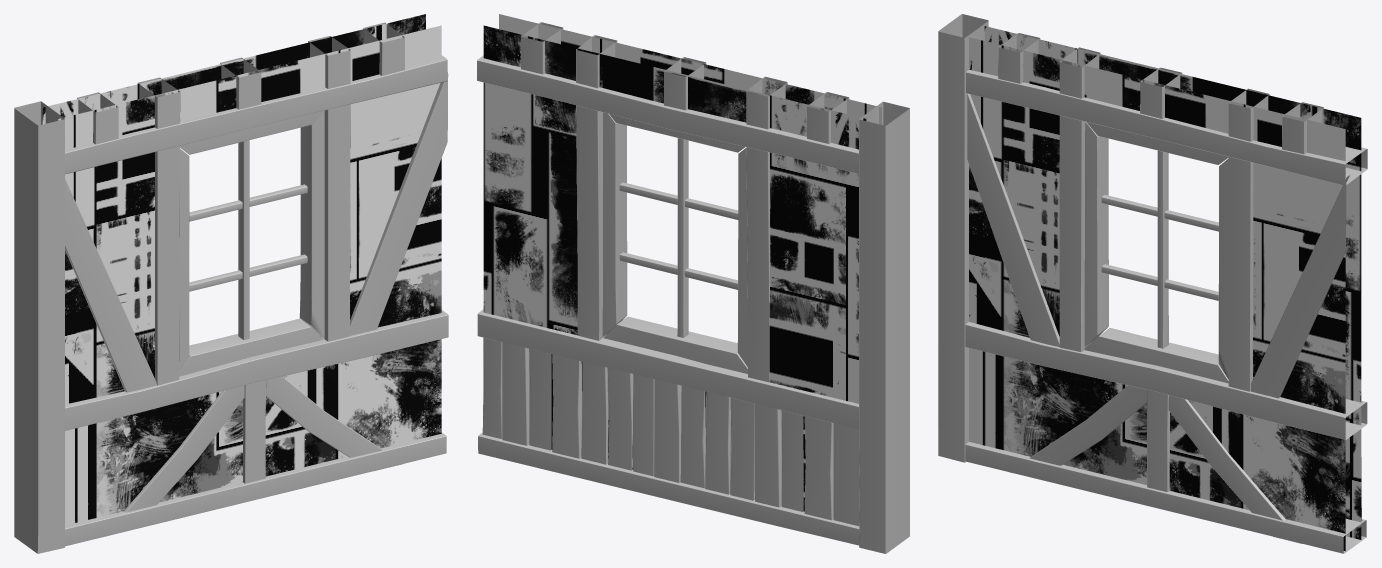
Rendered from SM_WallWindow01.fbx.
The picture shows the model from 3 angles, left to right: view 1: azimuth 30°, elevation 25°; view 2: azimuth 150°, elevation 25°; view 3: azimuth 330°, elevation 25°; orthographic projection.
Parts seen in each view (by area): view 1: SM_WallWindow01_LOD0; view 2: SM_WallWindow01_LOD0; view 3: SM_WallWindow01_LOD0.
Boxes of the visible parts, bbox=[...] form: SM_WallWindow01_LOD0: bbox=[14, 14, 448, 553]; SM_WallWindow01_LOD0: bbox=[477, 14, 909, 553]; SM_WallWindow01_LOD0: bbox=[938, 14, 1367, 553].
Bounding box in the file's own units: 303 × 31.03 × 302.
